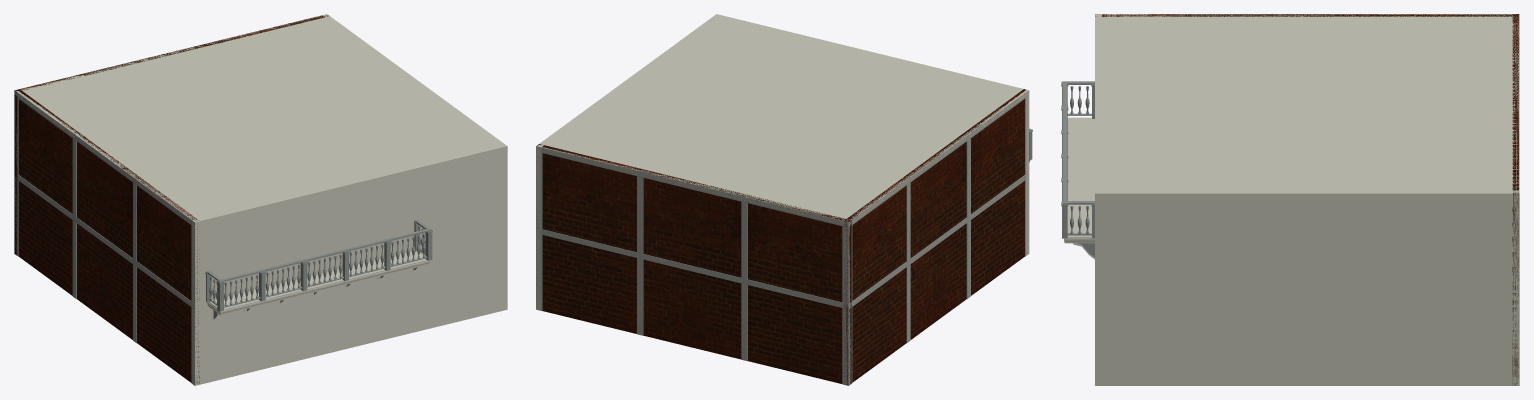
Rendered from building.glb.
The picture shows the model from 3 angles, left to right: view 1: azimuth 30°, elevation 25°; view 2: azimuth 150°, elevation 25°; view 3: azimuth 270°, elevation 25°; orthographic projection. The views are drawn at different scales.
Parts seen in each view (by area): view 1: roof/house:0/roof_slab#0001, house:0/edge0/z0/house:0/edge0/z0/wall_0_0, house:0/edge3/z0/house:0/edge3/z0/wall_0_0, balcony/sample/balcony_platform#0001, house:0/edge2/z0/house:0/edge2/z0/wall_0_0, house:0/edge1/z0/house:0/edge1/z0/wall_0_0, house:0/edge3/z0/house:0/edge3/z0/beam_0_0, house:0/edge3/z0/house:0/edge3/z0/beam_1_0, balcony/sample/balcony_fascia#0001, balcony/sample/balcony_handrail#0001; view 2: roof/house:0/roof_slab#0001, house:0/edge2/z0/house:0/edge2/z0/wall_0_0, house:0/edge3/z0/house:0/edge3/z0/wall_0_0, house:0/edge2/z0/house:0/edge2/z0/beam_0_0, house:0/edge1/z0/house:0/edge1/z0/wall_0_0, house:0/edge2/z0/house:0/edge2/z0/beam_1_0, house:0/edge0/z0/house:0/edge0/z0/wall_0_0, house:0/edge3/z0/house:0/edge3/z0/beam_0_0, house:0/edge3/z0/house:0/edge3/z0/beam_1_0, house:0/edge2/z0/house:0/edge2/z0/column_1_1, house:0/edge2/z0/house:0/edge2/z0/column_2_0, house:0/edge2/z0/house:0/edge2/z0/column_2_1 (+3 smaller); view 3: house:0/edge1/z0/house:0/edge1/z0/wall_0_0, roof/house:0/roof_slab#0001, balcony/sample/balcony_platform#0001, house:0/edge0/z0/house:0/edge0/z0/wall_0_0, house:0/edge2/z0/house:0/edge2/z0/wall_0_0, house:0/edge3/z0/house:0/edge3/z0/wall_0_0, balcony/sample/balcony_handrail#0001.
Boxes of the visible parts, left/top/right/bottom form: roof/house:0/roof_slab#0001: left=14, top=16, right=507, bottom=224; house:0/edge0/z0/house:0/edge0/z0/wall_0_0: left=192, top=144, right=507, bottom=385; house:0/edge3/z0/house:0/edge3/z0/wall_0_0: left=18, top=89, right=199, bottom=383; balcony/sample/balcony_platform#0001: left=208, top=251, right=427, bottom=310; house:0/edge2/z0/house:0/edge2/z0/wall_0_0: left=14, top=15, right=328, bottom=255; house:0/edge1/z0/house:0/edge1/z0/wall_0_0: left=322, top=14, right=507, bottom=310; house:0/edge3/z0/house:0/edge3/z0/beam_0_0: left=14, top=172, right=194, bottom=309; house:0/edge3/z0/house:0/edge3/z0/beam_1_0: left=14, top=90, right=194, bottom=225; balcony/sample/balcony_fascia#0001: left=207, top=260, right=430, bottom=315; balcony/sample/balcony_handrail#0001: left=206, top=219, right=431, bottom=281; roof/house:0/roof_slab#0001: left=536, top=14, right=1028, bottom=225; house:0/edge2/z0/house:0/edge2/z0/wall_0_0: left=537, top=144, right=851, bottom=384; house:0/edge3/z0/house:0/edge3/z0/wall_0_0: left=843, top=89, right=1025, bottom=385; house:0/edge2/z0/house:0/edge2/z0/beam_0_0: left=536, top=228, right=848, bottom=309; house:0/edge1/z0/house:0/edge1/z0/wall_0_0: left=536, top=15, right=720, bottom=310; house:0/edge2/z0/house:0/edge2/z0/beam_1_0: left=536, top=146, right=848, bottom=227; house:0/edge0/z0/house:0/edge0/z0/wall_0_0: left=714, top=14, right=1029, bottom=255; house:0/edge3/z0/house:0/edge3/z0/beam_0_0: left=848, top=173, right=1028, bottom=309; house:0/edge3/z0/house:0/edge3/z0/beam_1_0: left=848, top=90, right=1028, bottom=227; house:0/edge2/z0/house:0/edge2/z0/column_1_1: left=842, top=226, right=848, bottom=303; house:0/edge2/z0/house:0/edge2/z0/column_2_0: left=637, top=176, right=643, bottom=253; house:0/edge2/z0/house:0/edge2/z0/column_2_1: left=637, top=258, right=643, bottom=335; house:0/edge1/z0/house:0/edge1/z0/wall_0_0: left=1095, top=190, right=1519, bottom=385; roof/house:0/roof_slab#0001: left=1095, top=14, right=1519, bottom=197; balcony/sample/balcony_platform#0001: left=1067, top=117, right=1094, bottom=238; house:0/edge0/z0/house:0/edge0/z0/wall_0_0: left=1095, top=14, right=1101, bottom=385; house:0/edge2/z0/house:0/edge2/z0/wall_0_0: left=1512, top=14, right=1518, bottom=385; house:0/edge3/z0/house:0/edge3/z0/wall_0_0: left=1095, top=14, right=1512, bottom=16; balcony/sample/balcony_handrail#0001: left=1062, top=81, right=1094, bottom=204.
Size of the model in its own units: 12 by 6 by 12.95.
Materials: 4 (1 with a texture image).
